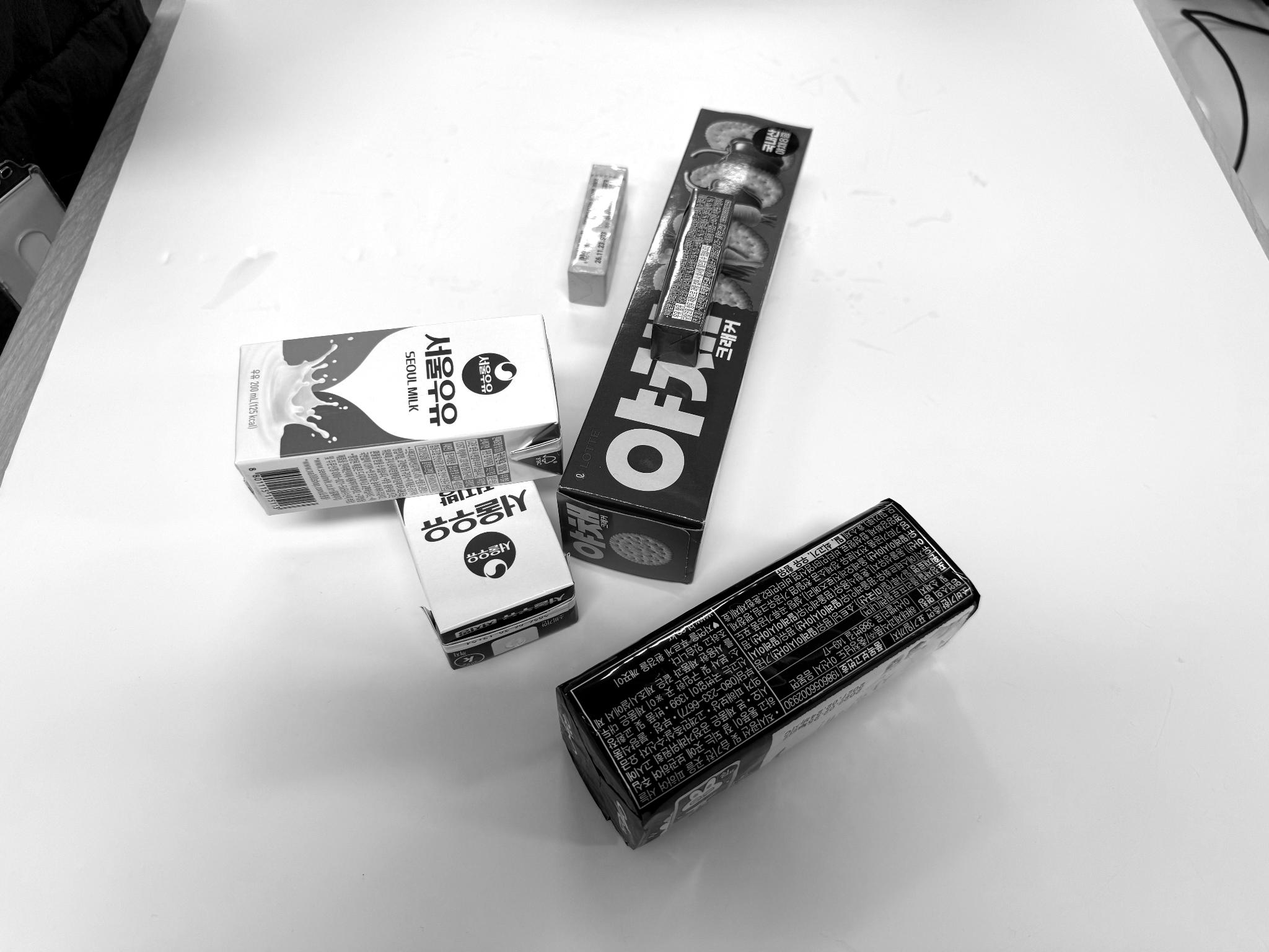cracker_ace: (552, 497, 982, 857)
cracker_vege: (558, 107, 818, 588)
gum_yellow: (562, 164, 629, 309)
milk_blue: (392, 482, 587, 674)
milk_green: (234, 312, 564, 516)
